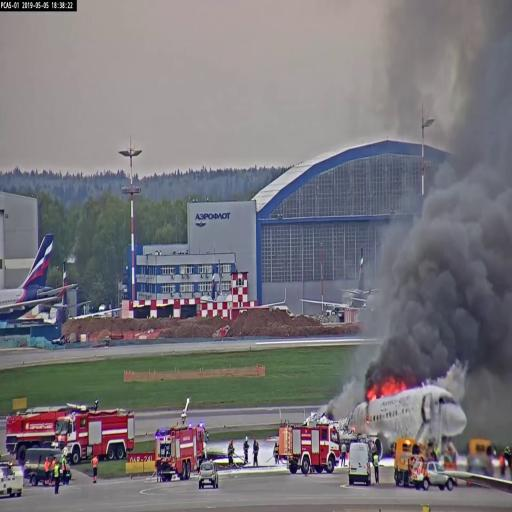fire: (366, 382, 404, 403)
smoke: (384, 180, 511, 366)
